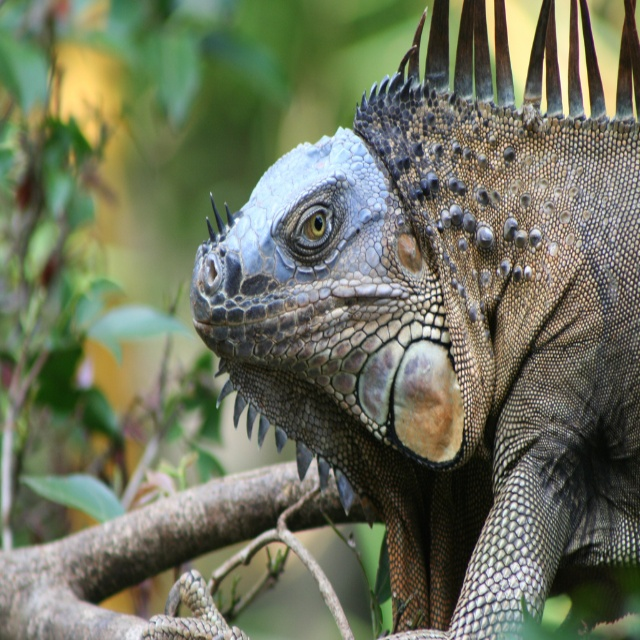Lizard: (147, 1, 640, 639)
